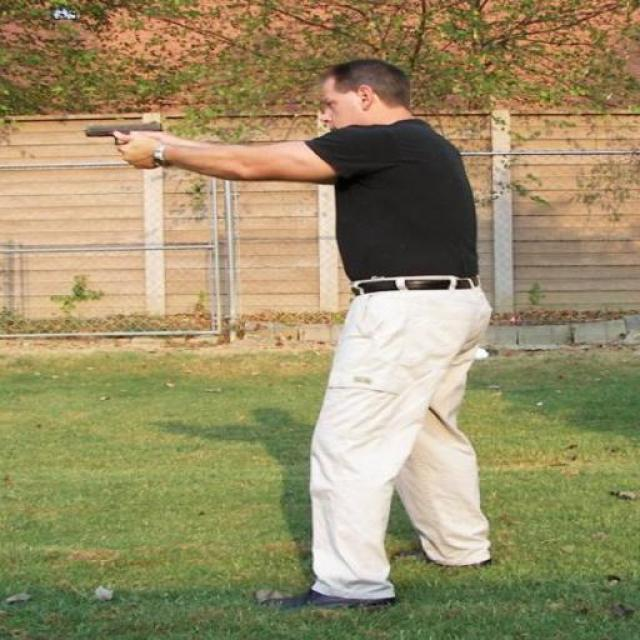pistol: (84, 119, 163, 154)
